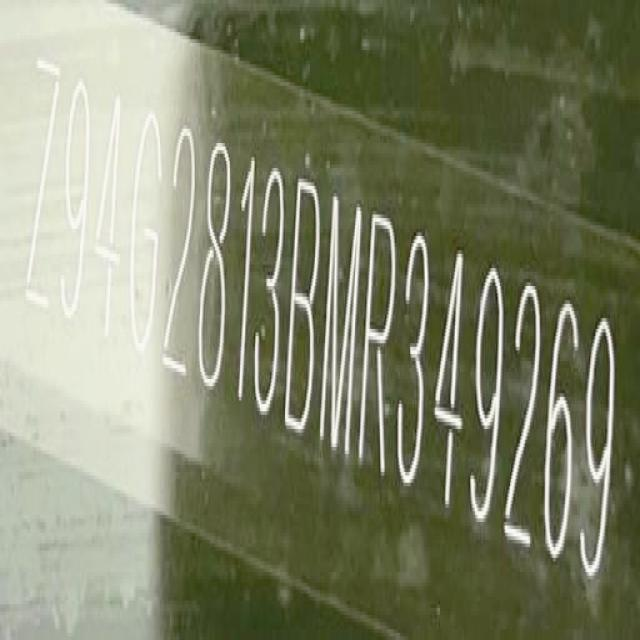1: (236, 158, 256, 404)
2: (510, 274, 543, 560), (166, 118, 196, 377)
3: (254, 163, 285, 419), (400, 229, 428, 499)
4: (434, 243, 466, 515), (95, 90, 126, 343)
6: (546, 288, 580, 570)
8: (201, 137, 230, 389)
9: (583, 313, 618, 585), (471, 262, 504, 539), (59, 82, 93, 334)
B: (285, 174, 319, 436)
G: (128, 112, 166, 363)
M: (317, 190, 361, 462)
R: (358, 205, 398, 481)
Z: (25, 60, 60, 319)
